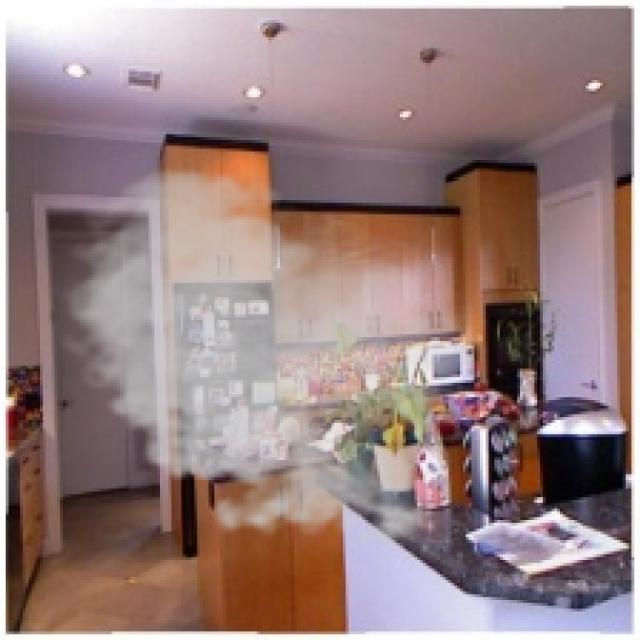smoke: (52, 160, 477, 560)
